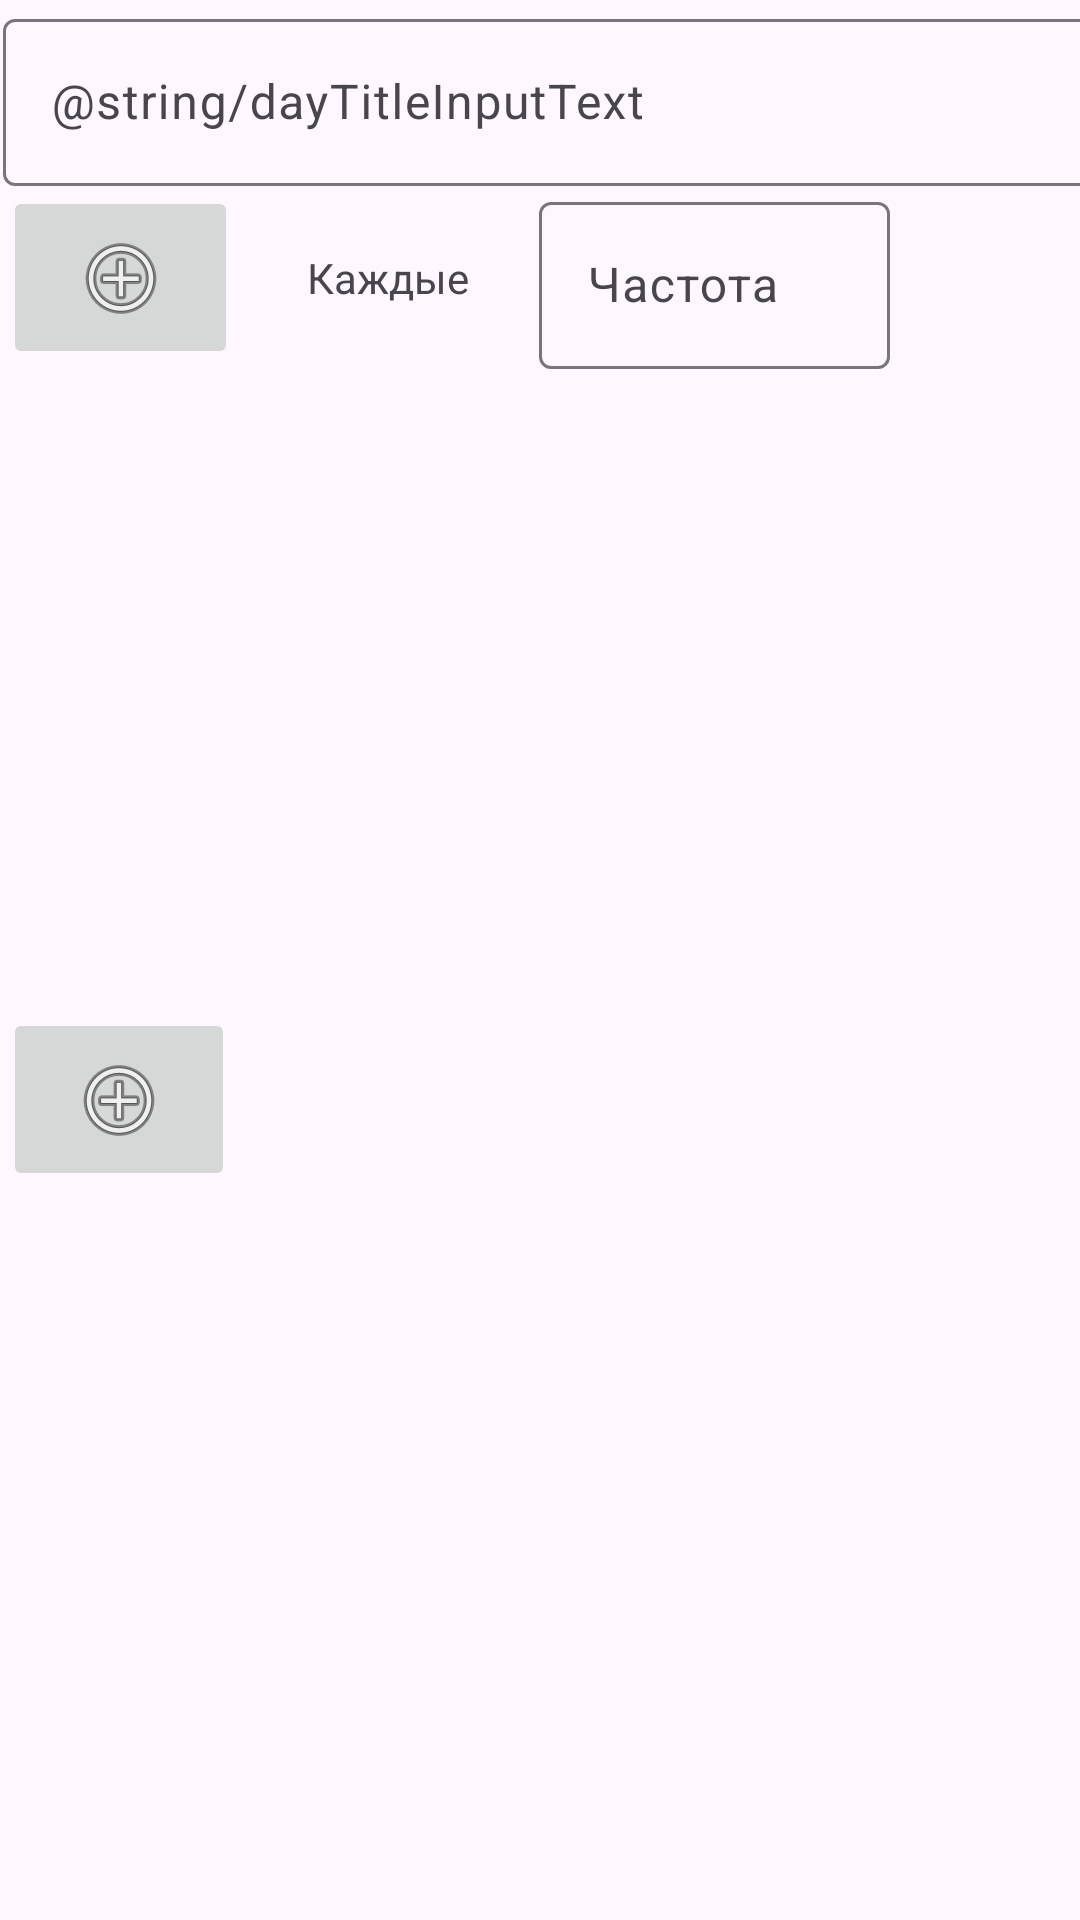

Icons on this 1080*1920 Android screen, each with the point to tap as (x=x, y=y):
add: (x=120, y=277), (x=119, y=1099)
